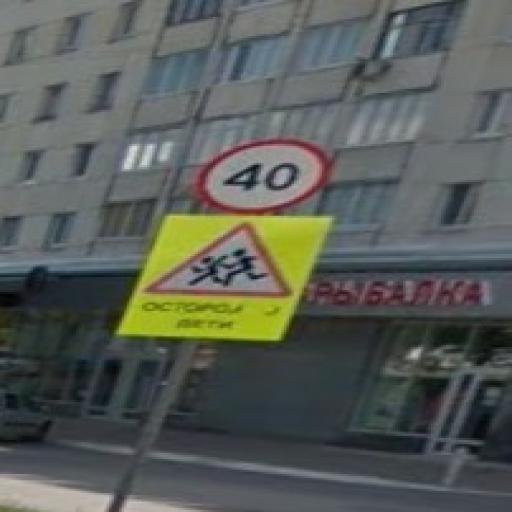traffic_sign: (143, 221, 295, 299), (196, 138, 331, 217)
